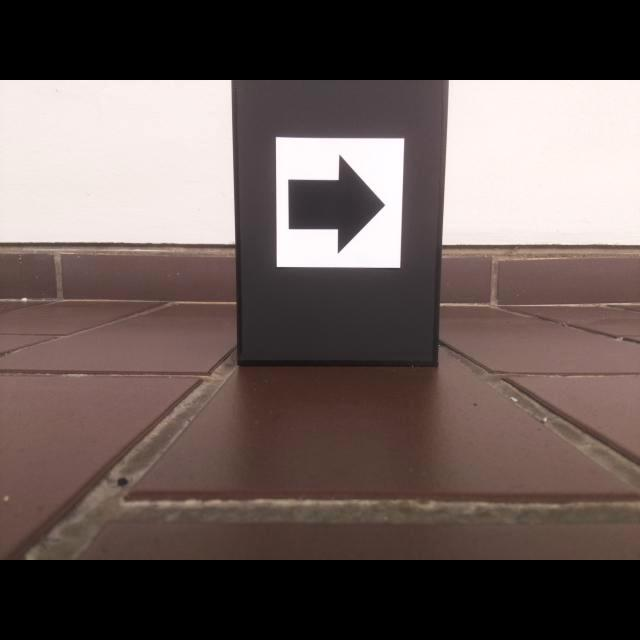RIGHT: (286, 152, 387, 255)
